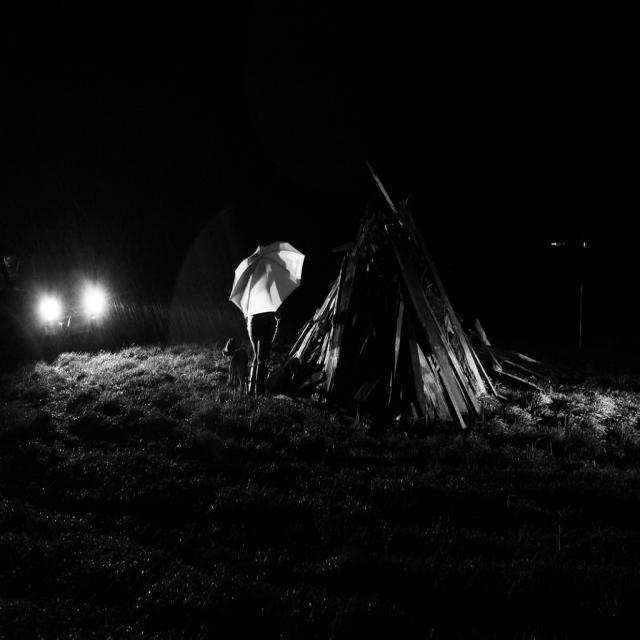Dog: (214, 301, 270, 414)
